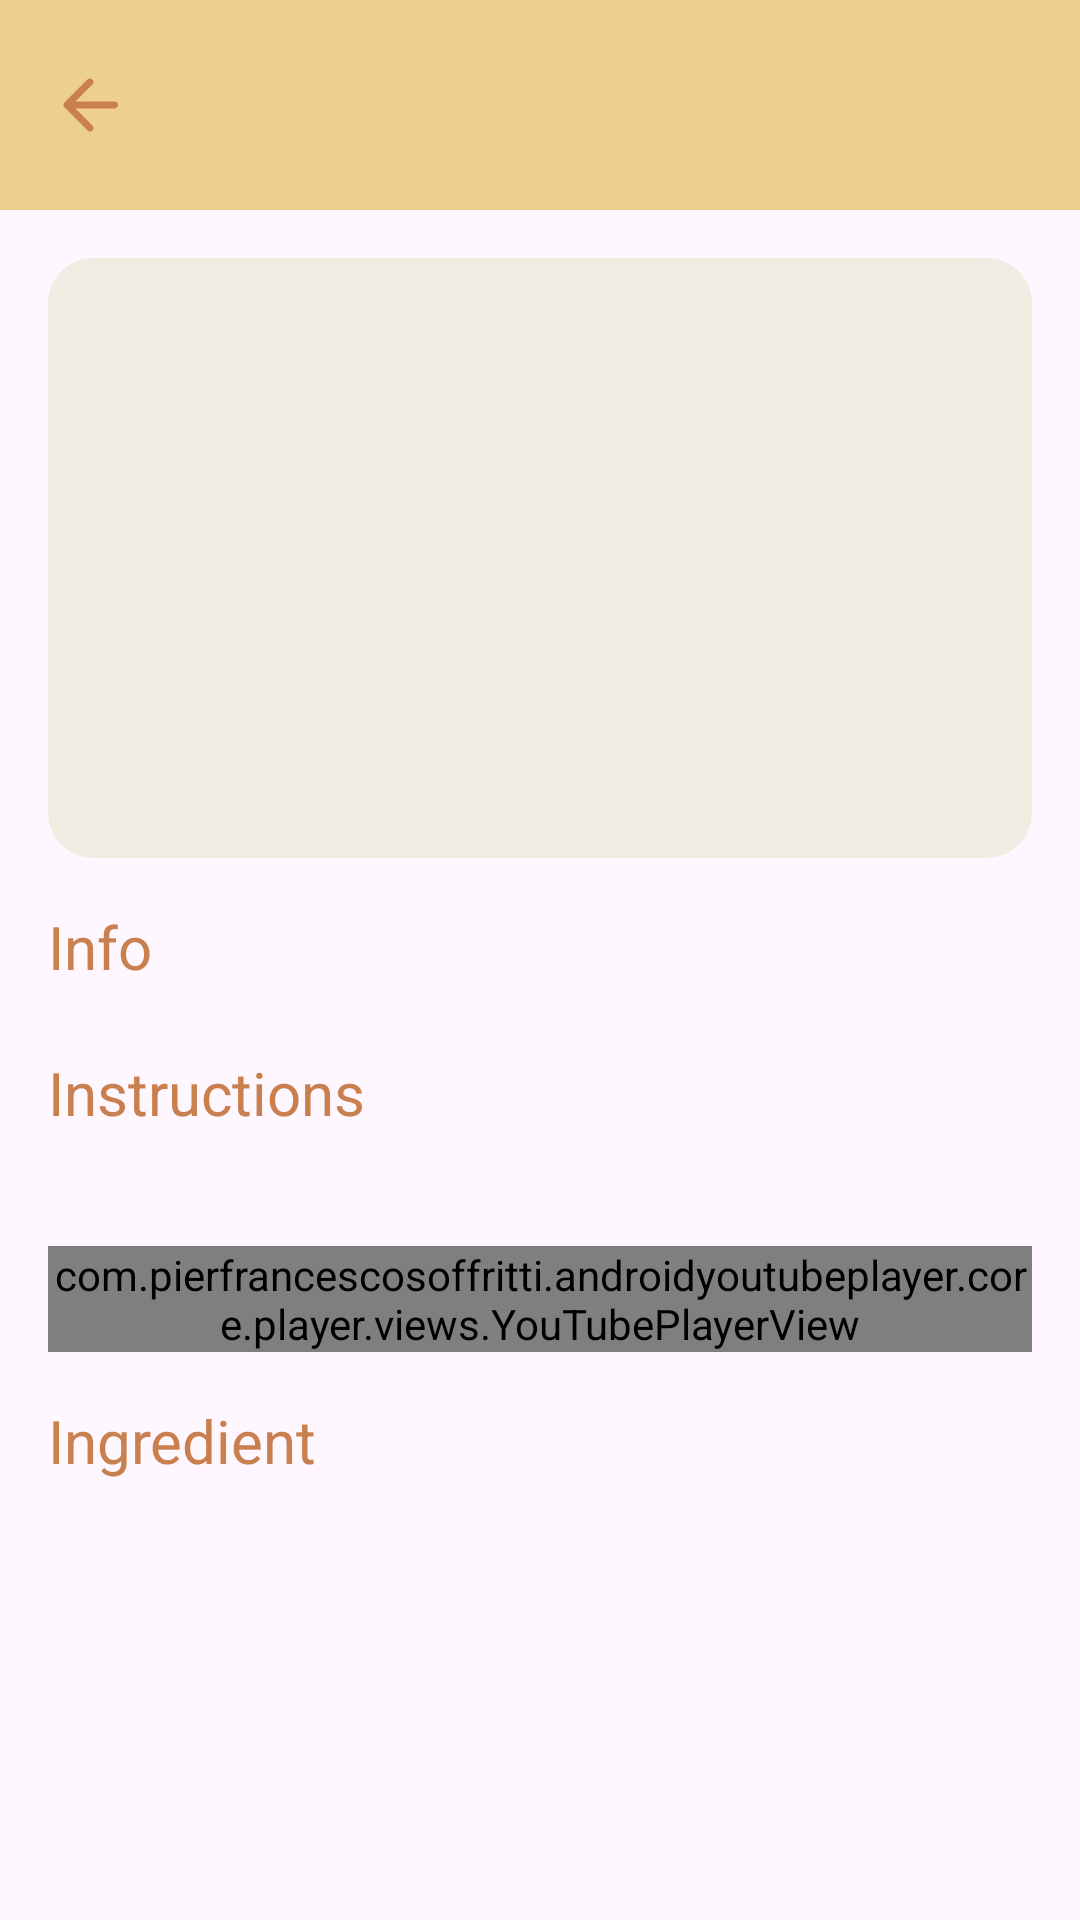

Screen size 1080px×1920px. Icon name, then its box in pixels as (x1, y1, x2, y2):
arrow back: (63, 78, 118, 132)
